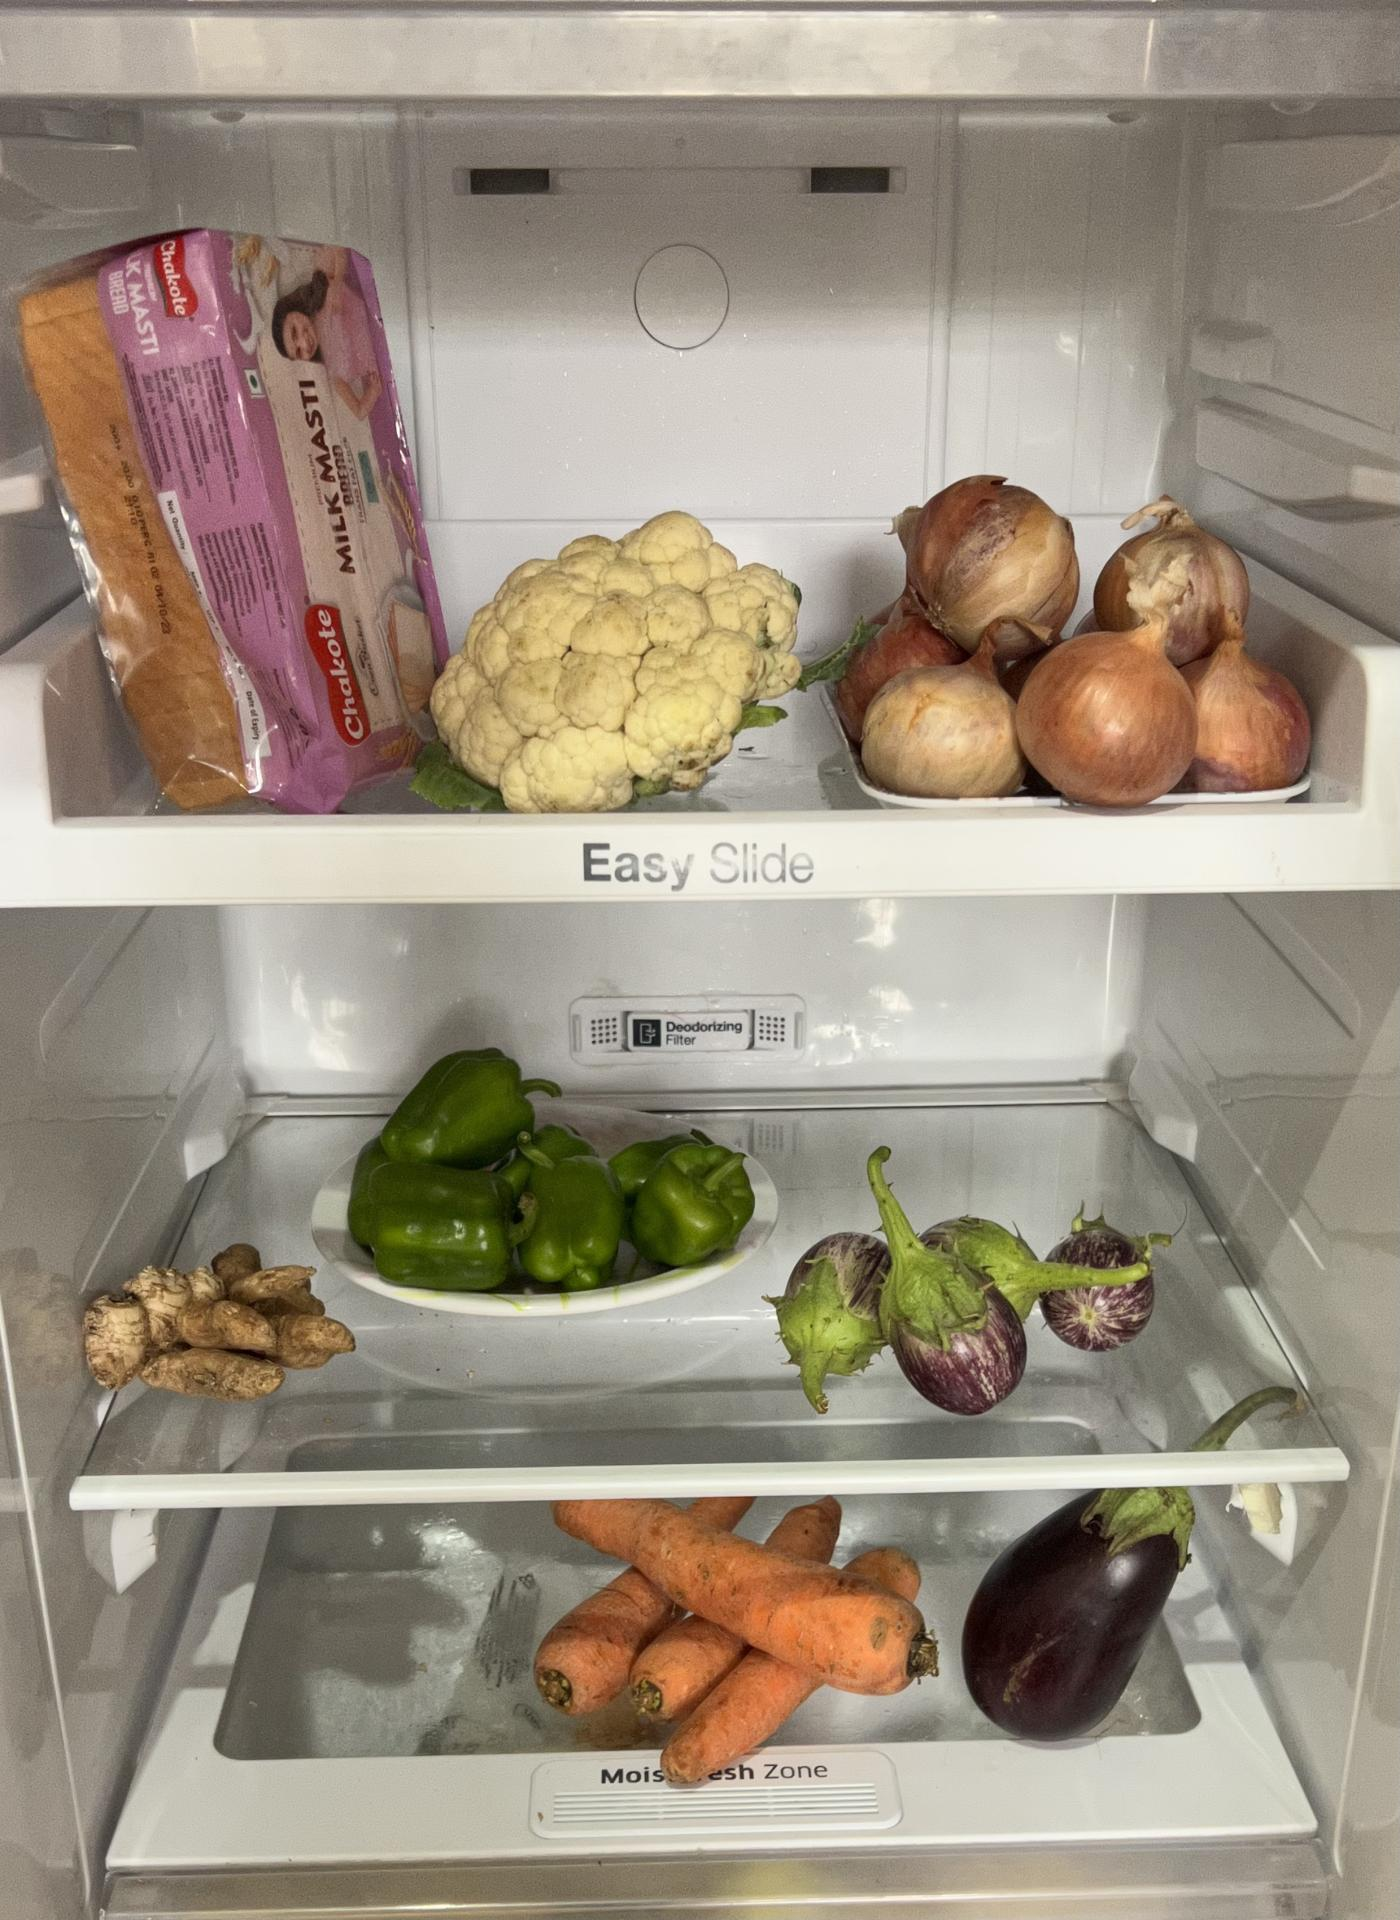bread: (3, 207, 426, 814)
brinjal: (780, 1193, 1178, 1413), (959, 1486, 1205, 1746)
capsicum: (338, 1061, 750, 1309)
carrots: (552, 1507, 951, 1790)
cauliflower: (440, 504, 798, 806)
ginger: (75, 1234, 358, 1412)
onion: (842, 473, 1321, 808)
